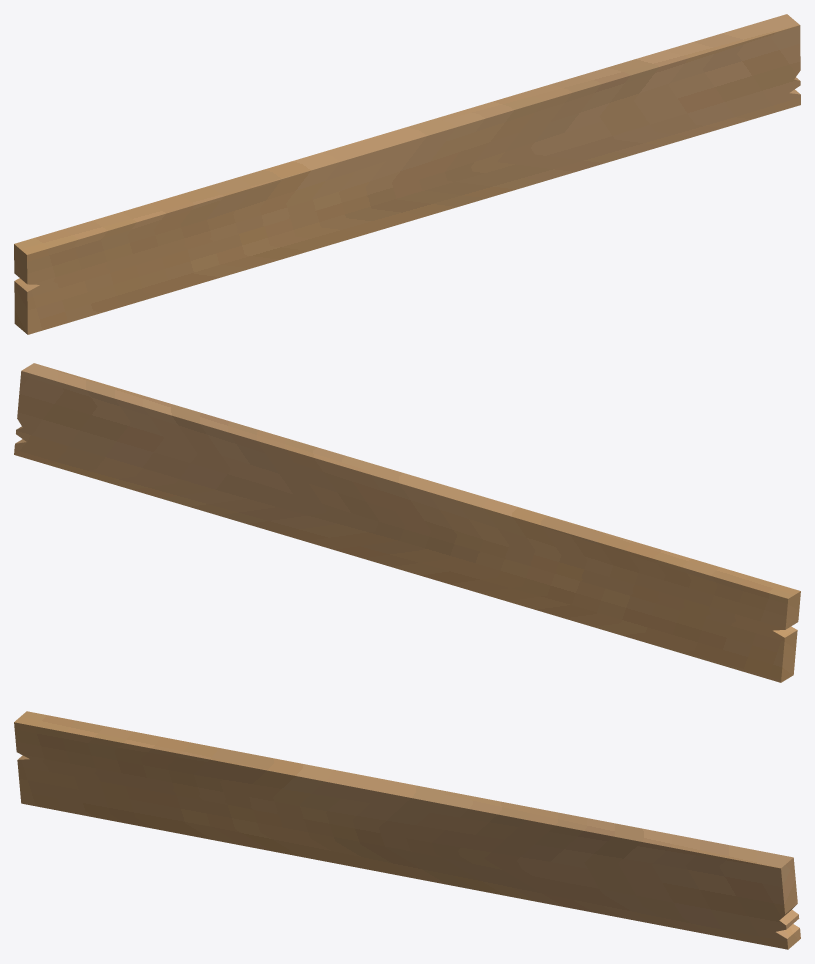
The model's file is Docks_Railing_Board_1_1x1.glb.
3 renders of one model, top to bottom at view 1: azimuth 30°, elevation 25°; view 2: azimuth 150°, elevation 25°; view 3: azimuth 330°, elevation 25°, orthographic.
Parts seen in each view (by area): view 1: Docks_Railing_Board_1_1x1; view 2: Docks_Railing_Board_1_1x1; view 3: Docks_Railing_Board_1_1x1.
Boxes of the visible parts, x1,y1,x2,y2 form: Docks_Railing_Board_1_1x1: [14, 14, 800, 334]; Docks_Railing_Board_1_1x1: [14, 363, 800, 682]; Docks_Railing_Board_1_1x1: [14, 711, 800, 949].
Size of the model in its own units: 1.22 by 0.1887 by 0.0439.
Materials: 1 (1 with a texture image).
